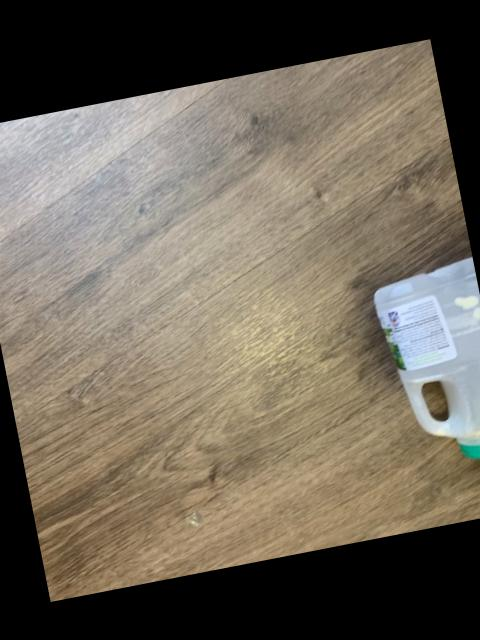plastic: (372, 258, 480, 460)
